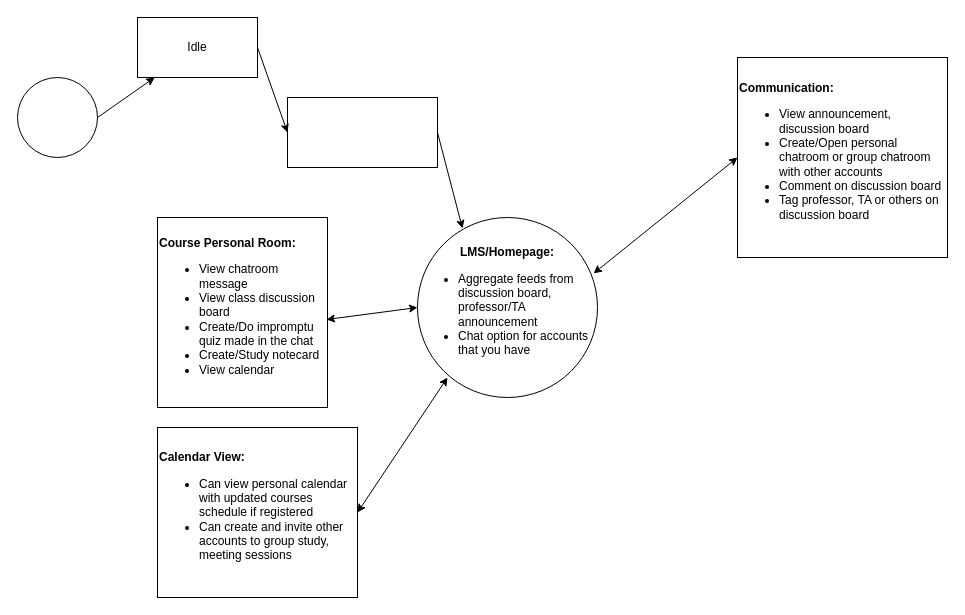
The diagram is 965 pixels wide and 615 high, and some of its shapes have lost their labels. Here are the shapes that lost their labels. From the top down, the centre of each, then its label:
At point 57,117: "Start".
At point 362,132: "Login Registration Forgot Password".
